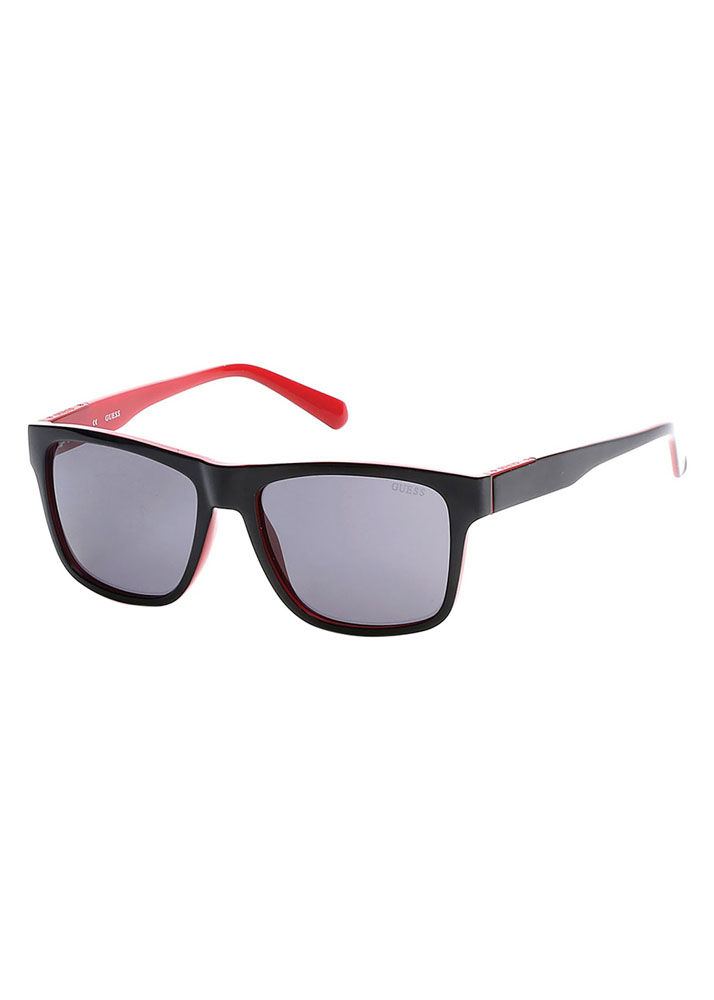Guess: (382, 477, 433, 506), (101, 406, 128, 425)
